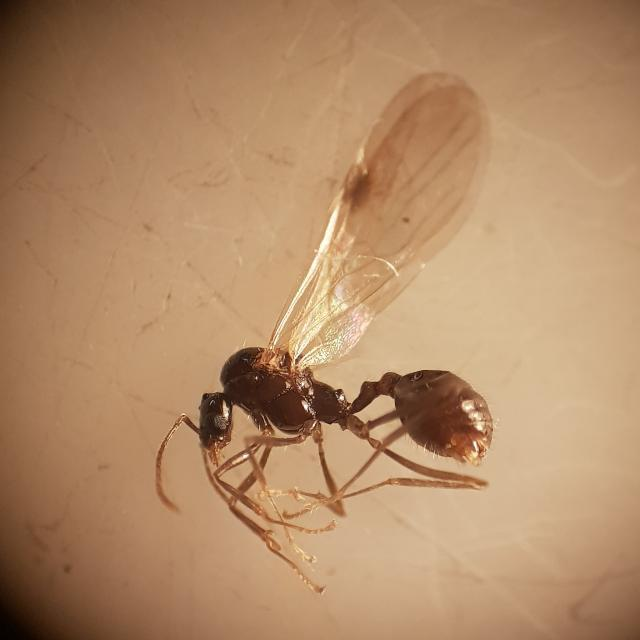Apheanogaster: (151, 299, 515, 531)
